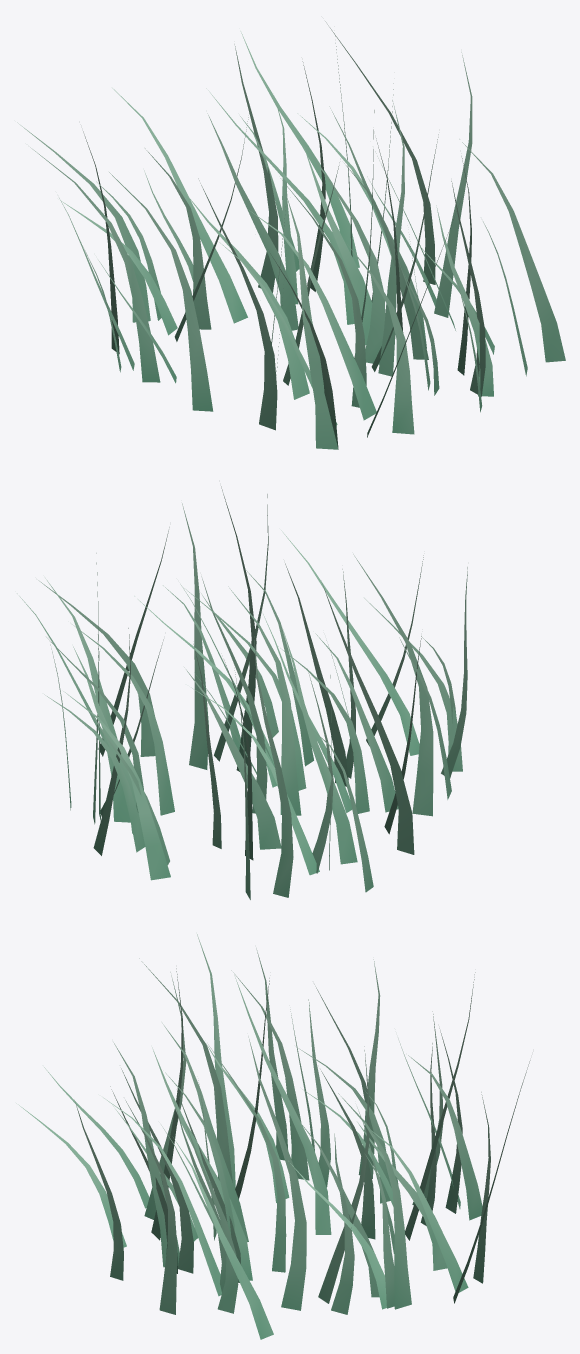
The model's file is mesh-plant-006-emerald-swordleaf_LOD1.glb.
3 views of the same model, one above another, from view 1: azimuth 30°, elevation 25°; view 2: azimuth 150°, elevation 25°; view 3: azimuth 270°, elevation 25° (orthographic). The views are drawn at different scales.
Parts seen in each view (by area): view 1: geometry_0; view 2: geometry_0; view 3: geometry_0.
Boxes of the visible parts, box(x1,y1,x2,y2) form: geometry_0: box(17, 21, 565, 449); geometry_0: box(17, 486, 467, 899); geometry_0: box(16, 934, 530, 1339).
Bounding box in the file's own units: 2.19 × 1.08 × 2.28.
